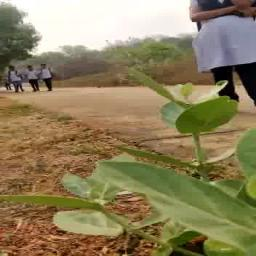Calotropis: (136, 70, 255, 254), (16, 160, 148, 243)
